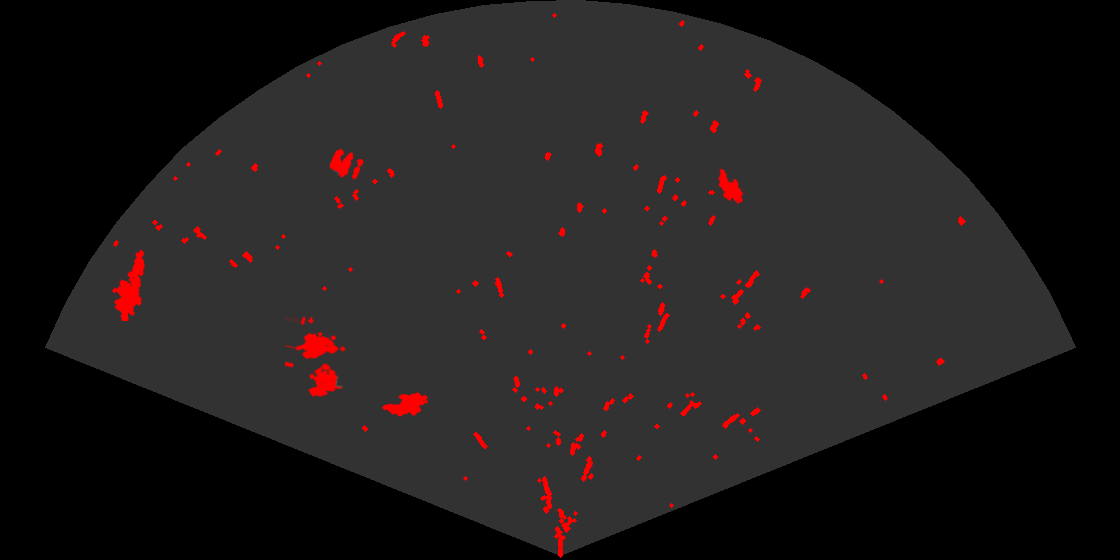AUV: (380, 391, 430, 418), (717, 167, 745, 205)
ball: (328, 147, 365, 181)
cage: (285, 317, 347, 399)
frogman: (110, 248, 146, 321)
